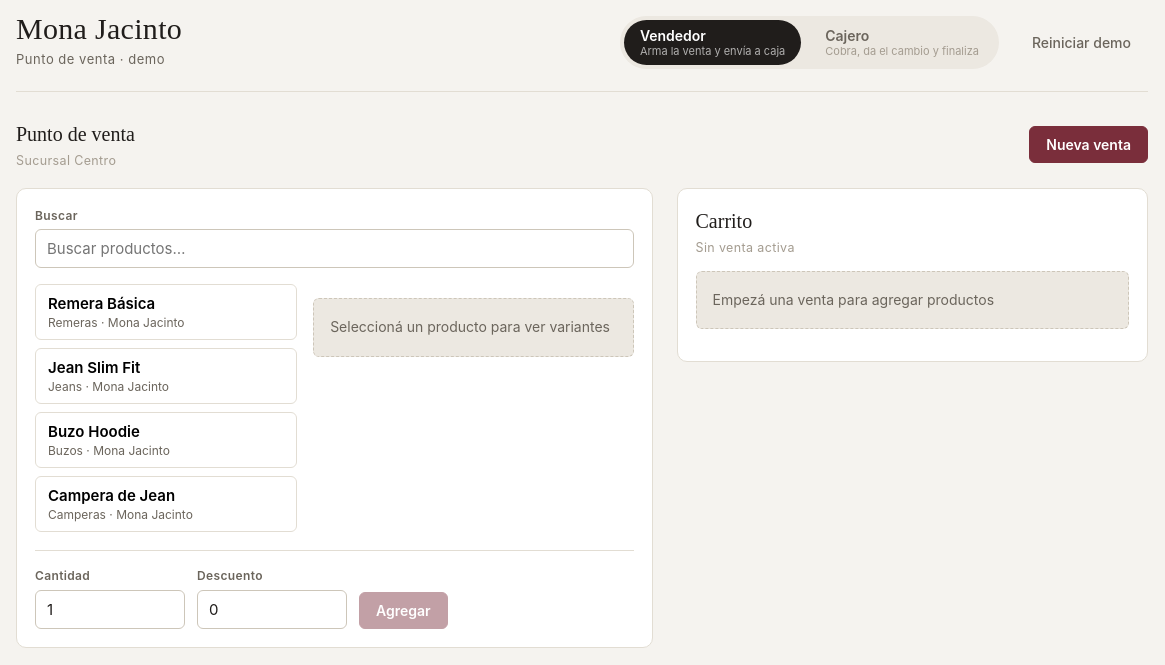
Test: App › recovers a persisted PAID sale for finalization after remount
Click the button "Cajero Cobra, da el cambio y finaliza". click: [902, 42]
box: 809,20 -> 995,65
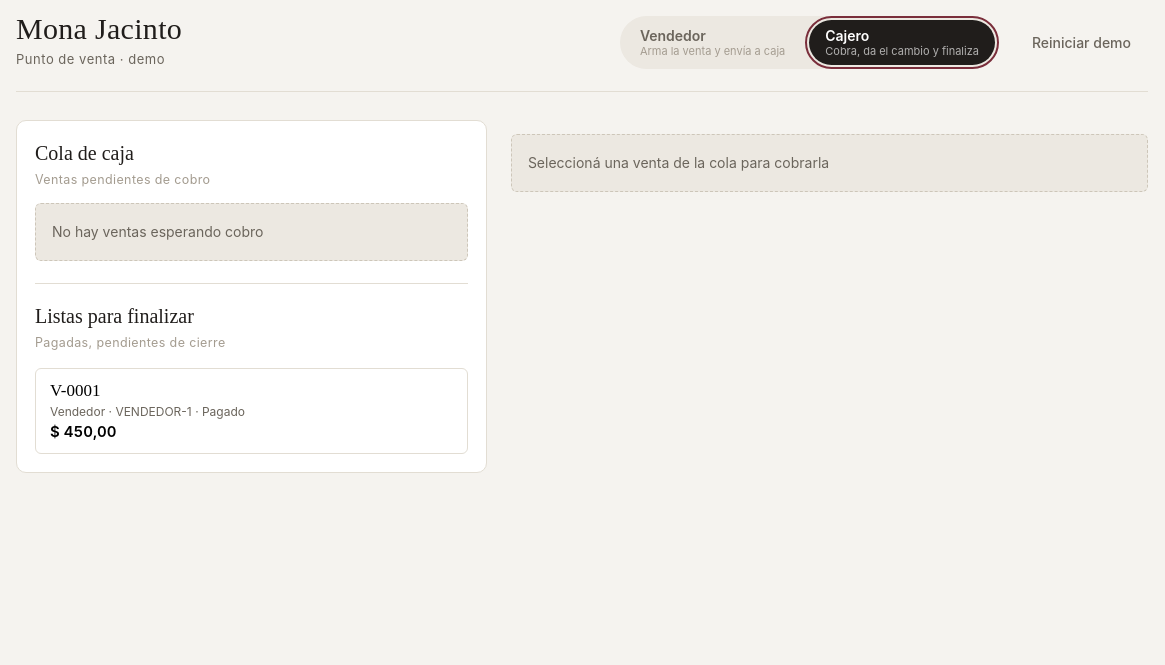
# The PAID sale is reachable as "ready to finalize".
Click the button "V-0001 Vendedor · VENDEDOR-1 · Pagado $ 450,00". click: [75, 391]
box: 35,368 -> 468,454
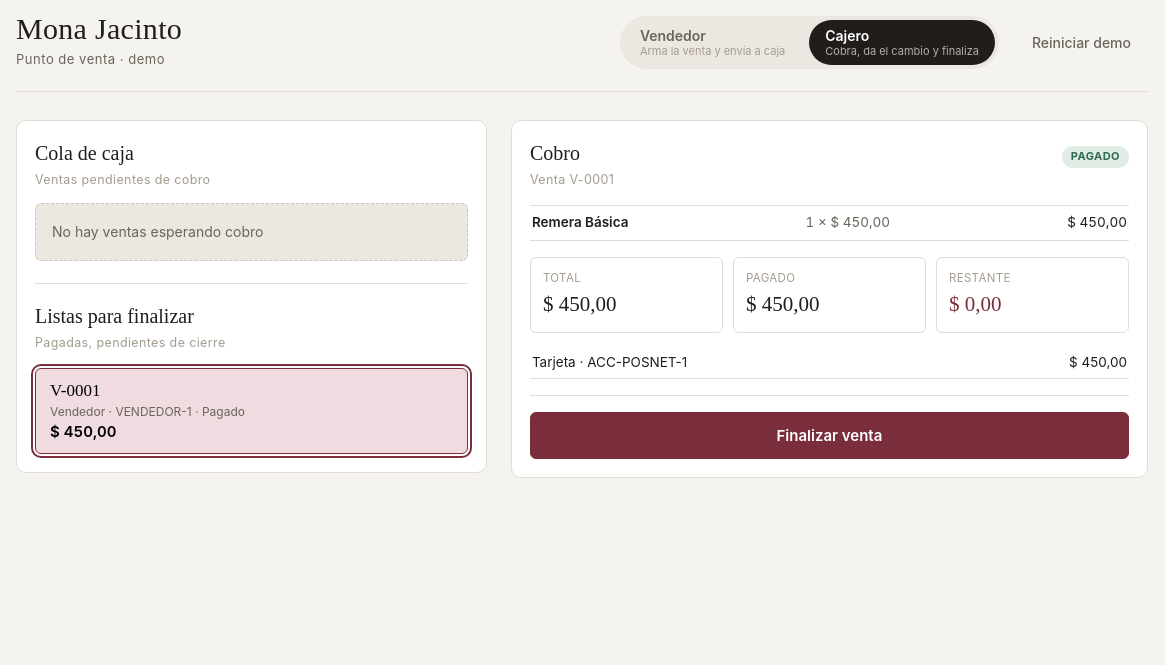
Click the button "Finalizar venta". click: [829, 436]
box: 530,412 -> 1129,459
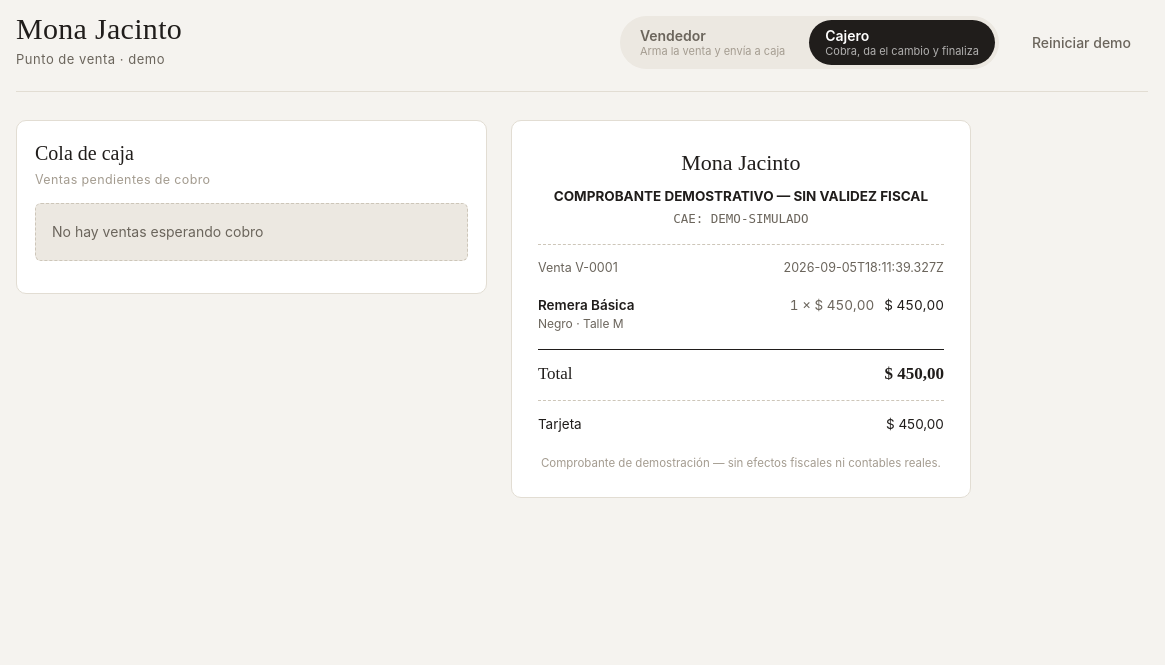
Expected: the text "CAE: DEMO-SIMULADO" is shown, 673,211 -> 809,226
